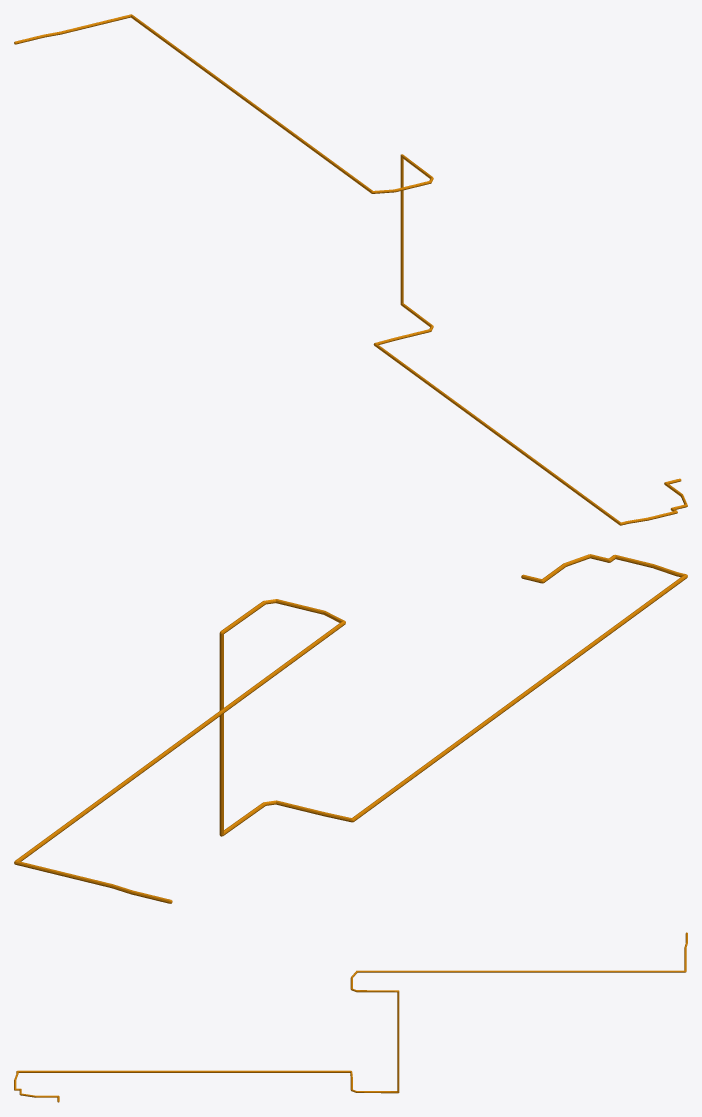
The picture shows the model from 3 angles, top to bottom: view 1: azimuth 30°, elevation 25°; view 2: azimuth 150°, elevation 25°; view 3: azimuth 270°, elevation 25°; orthographic projection. The views are drawn at different scales.
Size of the model in its own units: 1447 by 1020 by 6058.
